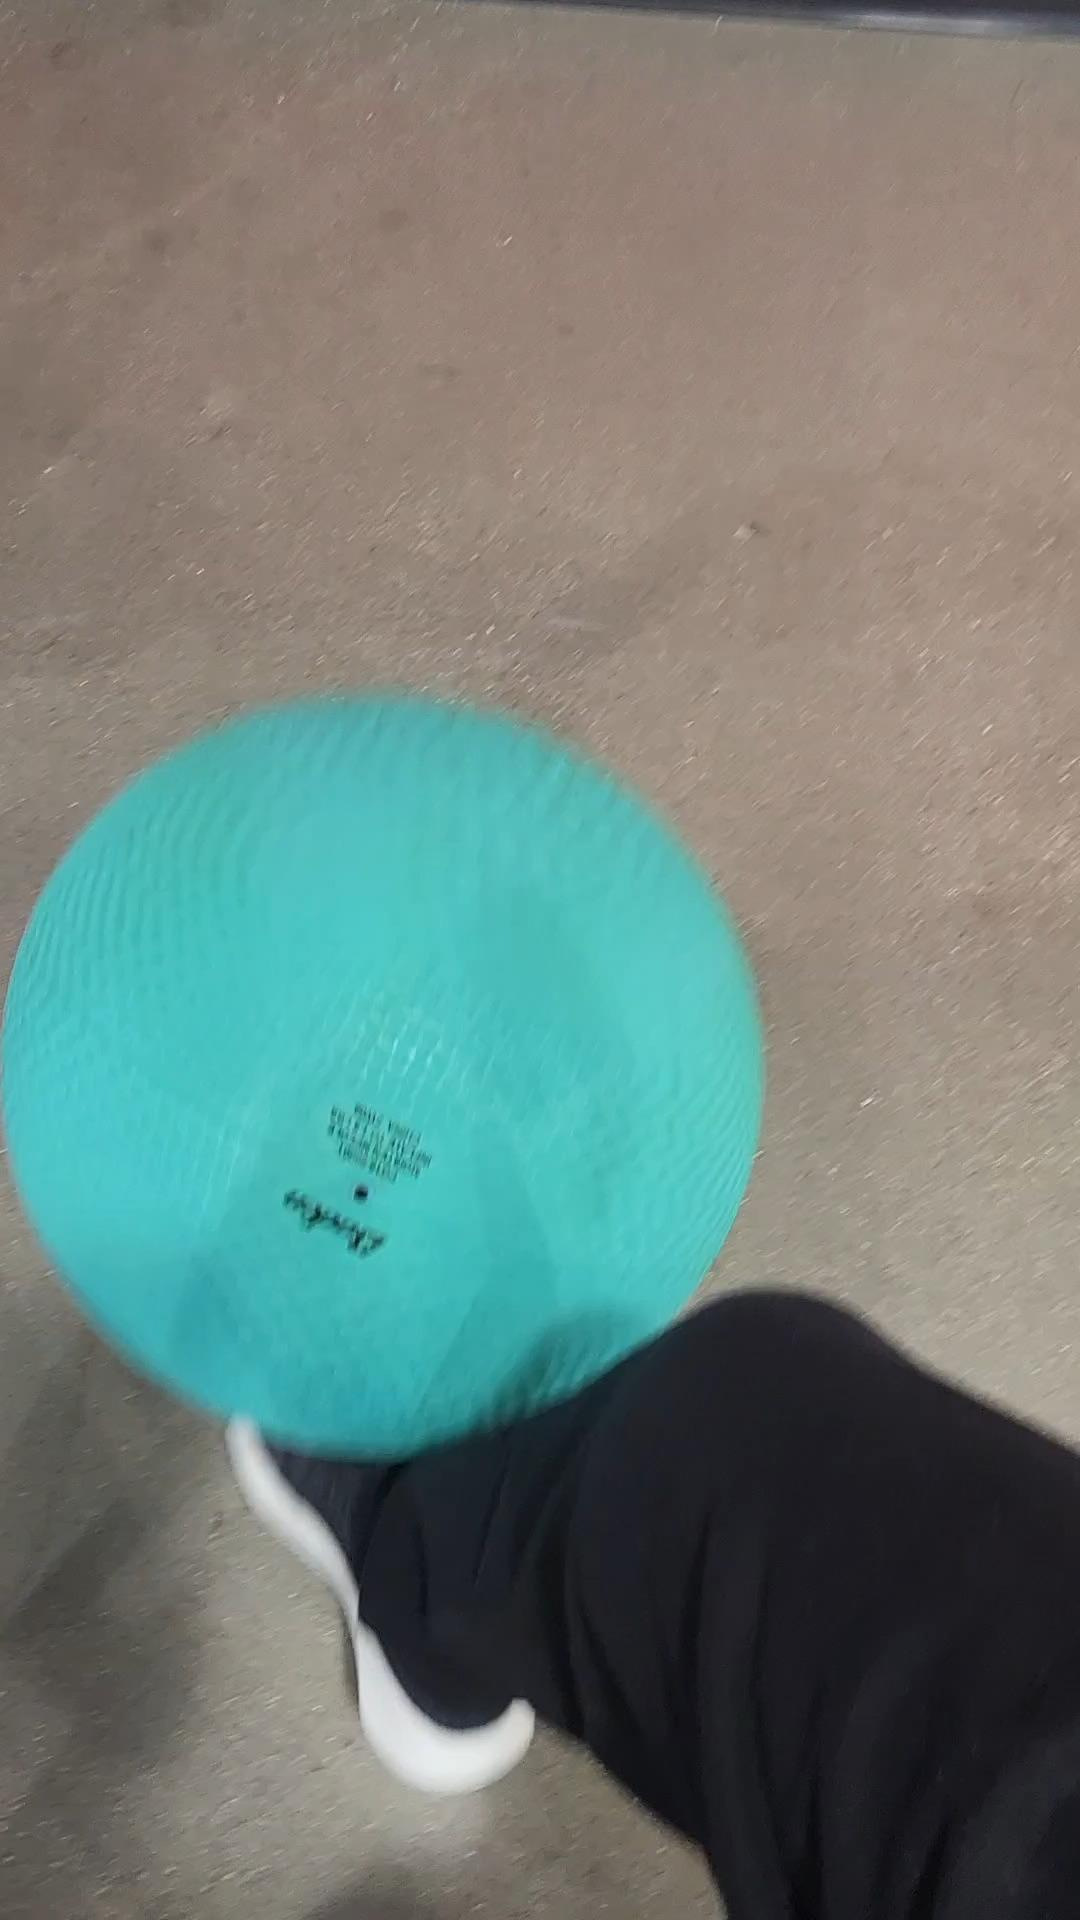algae: (11, 696, 750, 1424)
